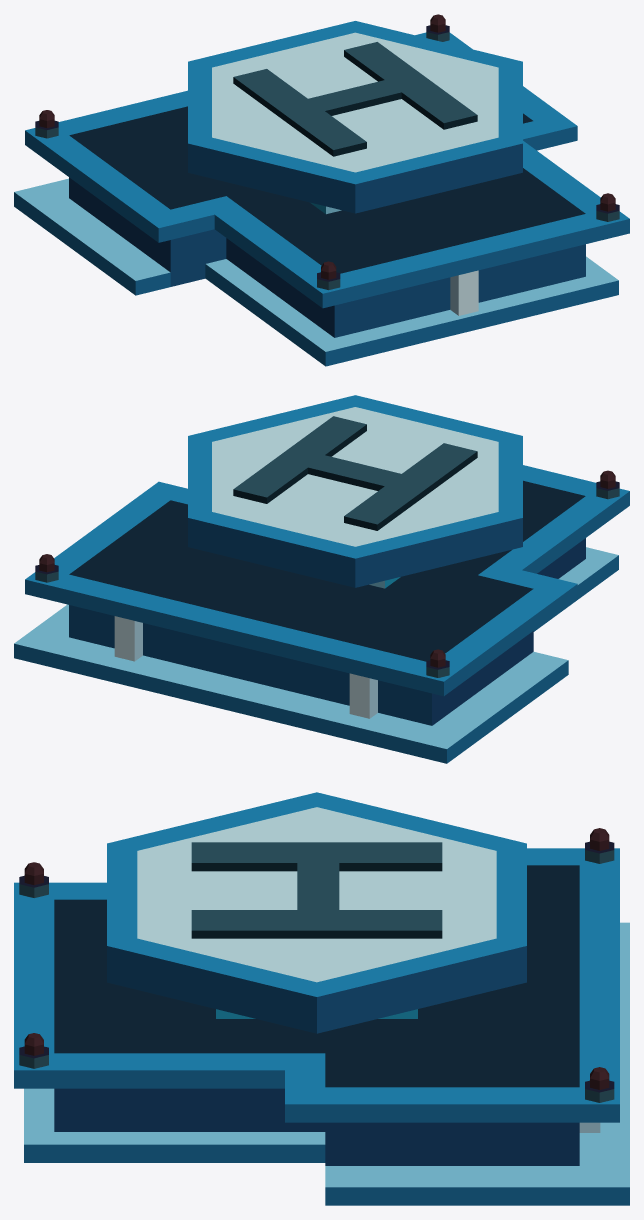
File: TB_CITY_Skysc_B_Top_Blue.FBX
3 views of the same model, one above another, from view 1: azimuth 30°, elevation 25°; view 2: azimuth 150°, elevation 25°; view 3: azimuth 270°, elevation 25° (orthographic). The views are drawn at different scales.
Visible parts, largest first — view 1: TB_CITY_Skysc_B_Top_Blue; view 2: TB_CITY_Skysc_B_Top_Blue; view 3: TB_CITY_Skysc_B_Top_Blue.
Boxes of the visible parts, x1=… form: TB_CITY_Skysc_B_Top_Blue: x1=14, y1=14, x2=629, y2=366; TB_CITY_Skysc_B_Top_Blue: x1=14, y1=395, x2=629, y2=763; TB_CITY_Skysc_B_Top_Blue: x1=14, y1=792, x2=629, y2=1205.
Size of the model in its own units: 31 by 10.21 by 30.5.
